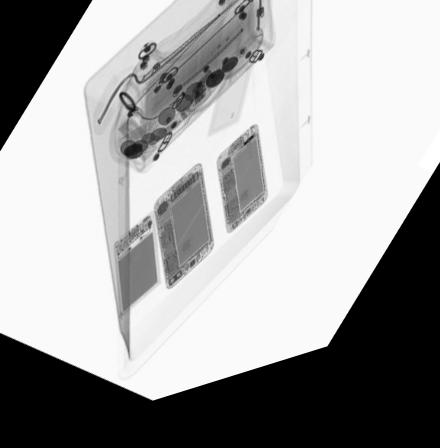Powerbank: (111, 217, 162, 321)
